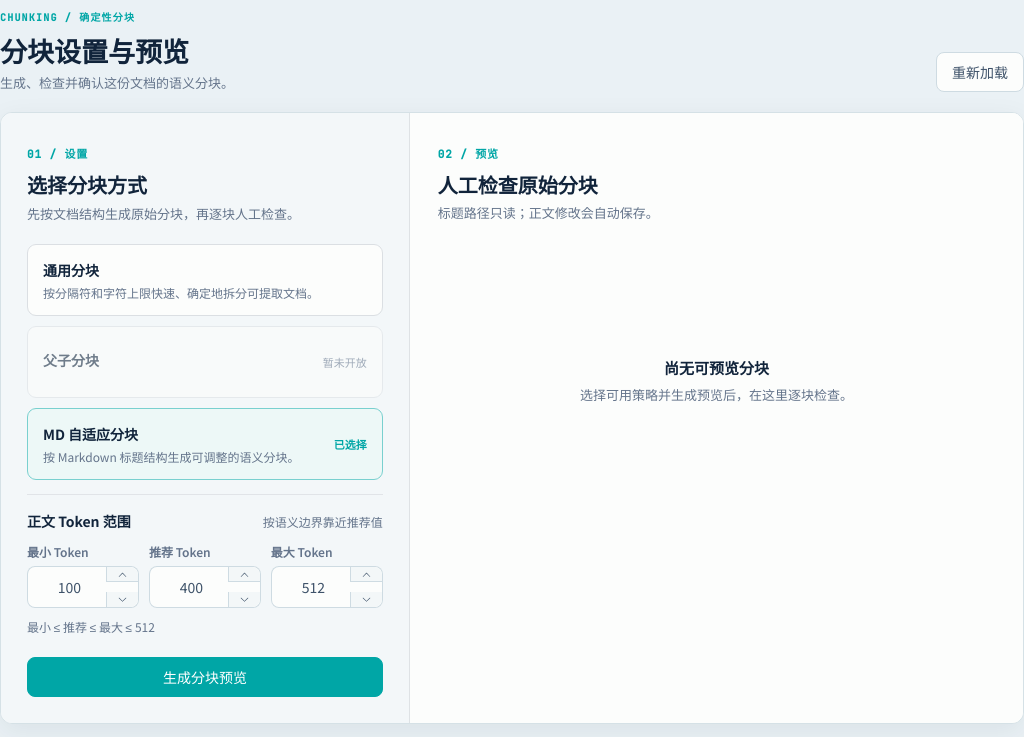
ChunkingWorkspace › clears cross-field delimiter errors when mode changes
The image size is (1024, 737).
Click the button "通用分块 按分隔符和字符上限快速、确定地拆分可提取文档。" at {"x": 71, "y": 270}, box [27, 244, 383, 316]
(page scrolled)
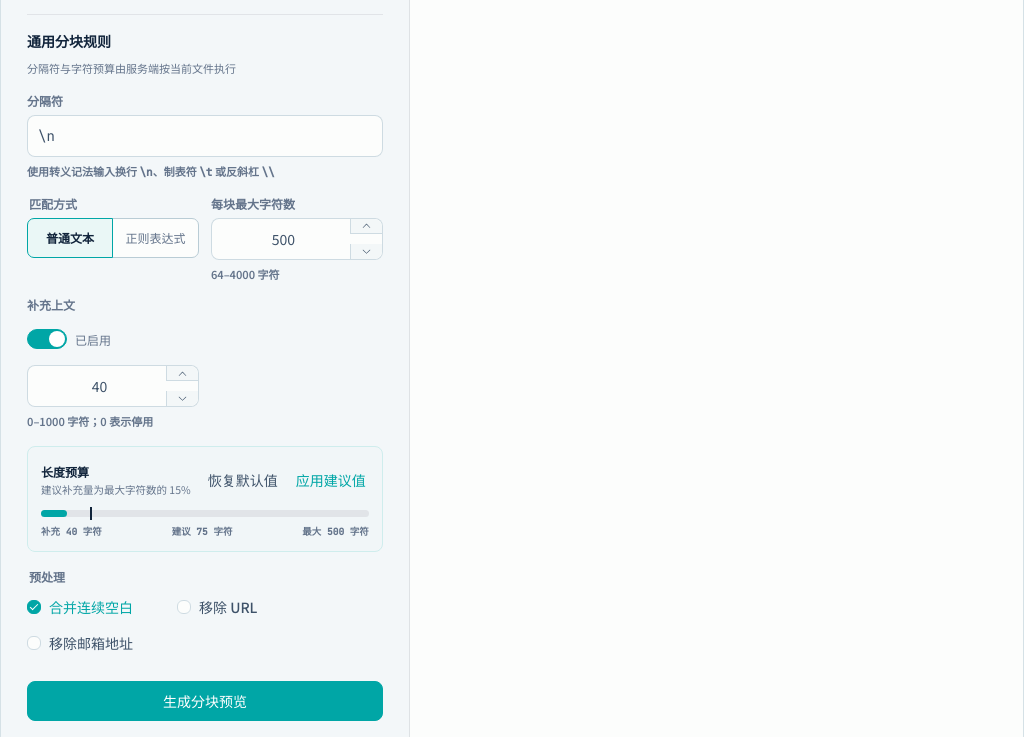
Click the button with test id "create-preview" at {"x": 205, "y": 701}, box [27, 681, 383, 721]
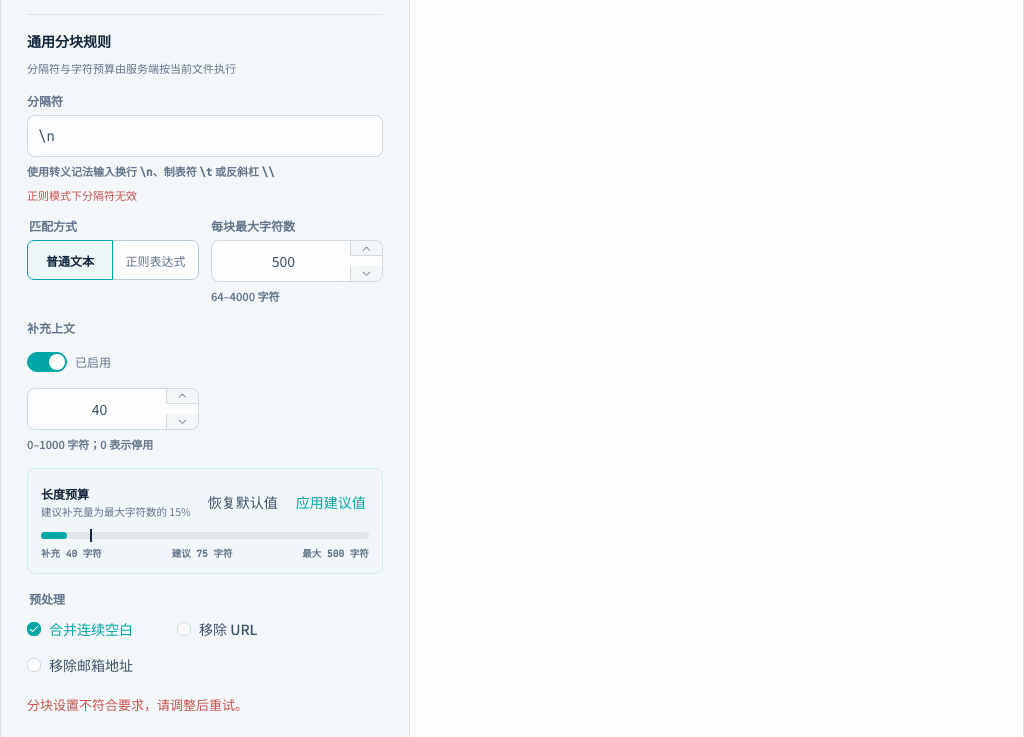
Click the button with test id "delimiter-mode-regex" at {"x": 155, "y": 260}, box [112, 240, 199, 280]
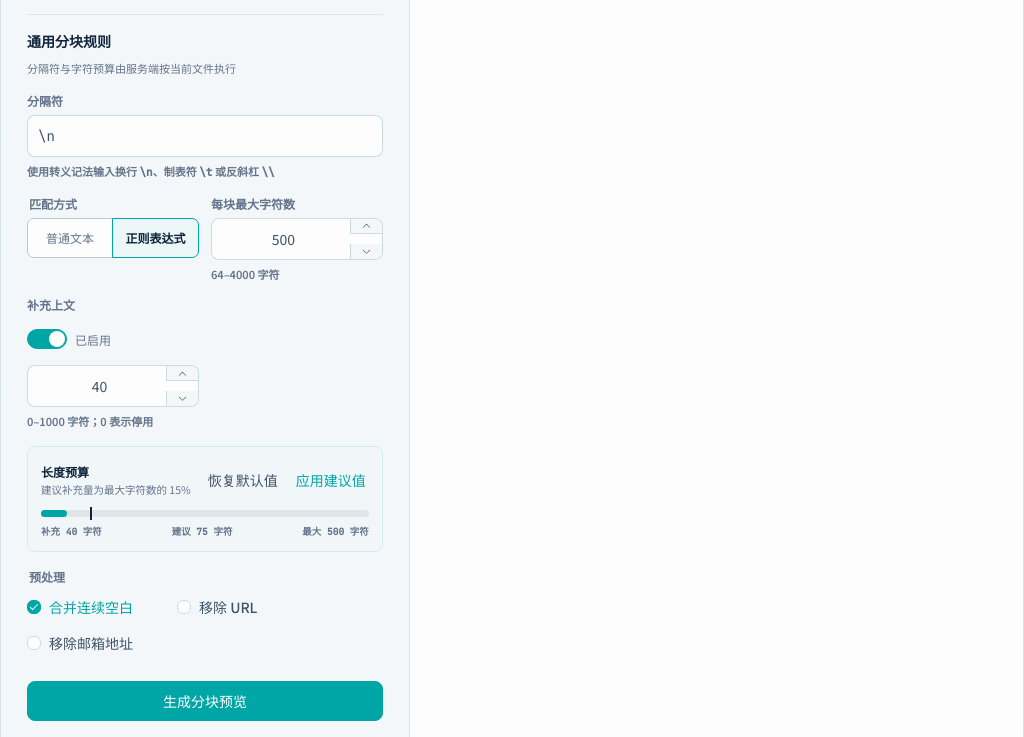
Expected: the button with test id "create-preview" is enabled, [27, 681, 383, 721]
